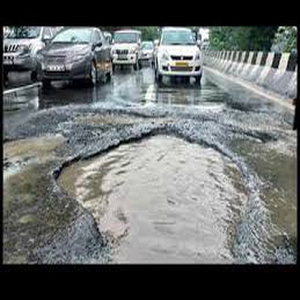pothole: (49, 125, 271, 262)
